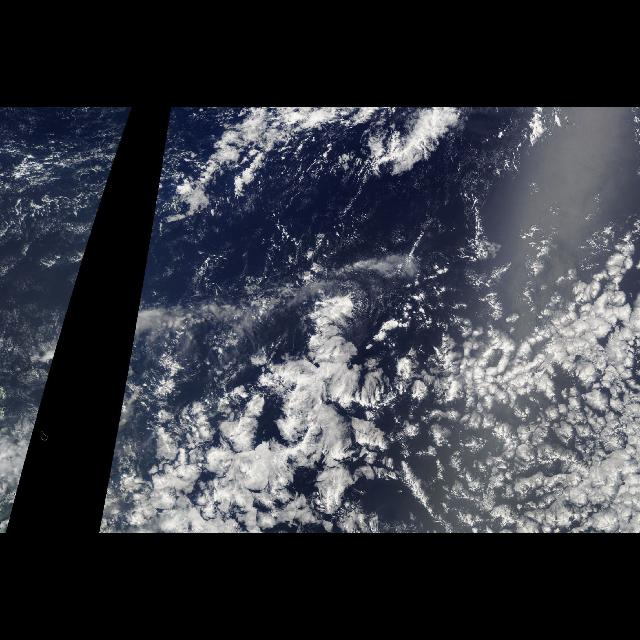Fish: (349, 108, 501, 198)
Flower: (188, 253, 634, 532)
